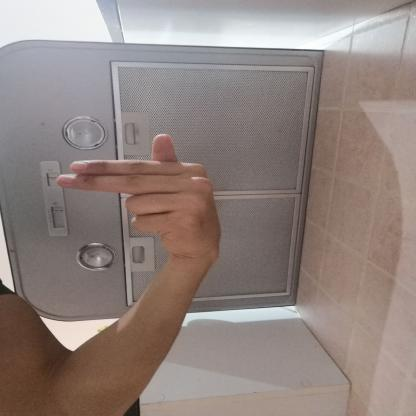GHAYN: (42, 126, 229, 270)
